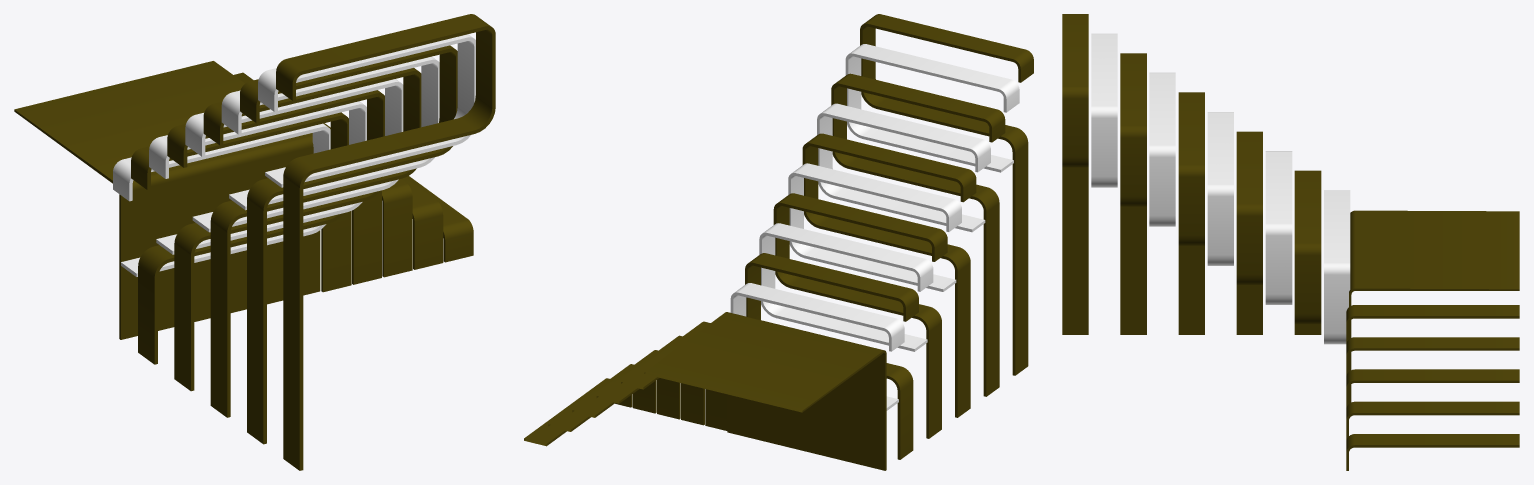
Rendered from FloatingAptStairs_Mesh.fbx.
The picture shows the model from 3 angles, left to right: view 1: azimuth 30°, elevation 25°; view 2: azimuth 150°, elevation 25°; view 3: azimuth 270°, elevation 25°; orthographic projection. The views are drawn at different scales.
Visible parts, largest first — view 1: FloatingAptStairs_Mesh; view 2: FloatingAptStairs_Mesh; view 3: FloatingAptStairs_Mesh.
Part boxes in pixels (left/top/right/bottom): FloatingAptStairs_Mesh: left=14, top=14, right=495, bottom=470; FloatingAptStairs_Mesh: left=524, top=14, right=1033, bottom=470; FloatingAptStairs_Mesh: left=1062, top=14, right=1519, bottom=470.
Size of the model in its own units: 124 by 131 by 170.
